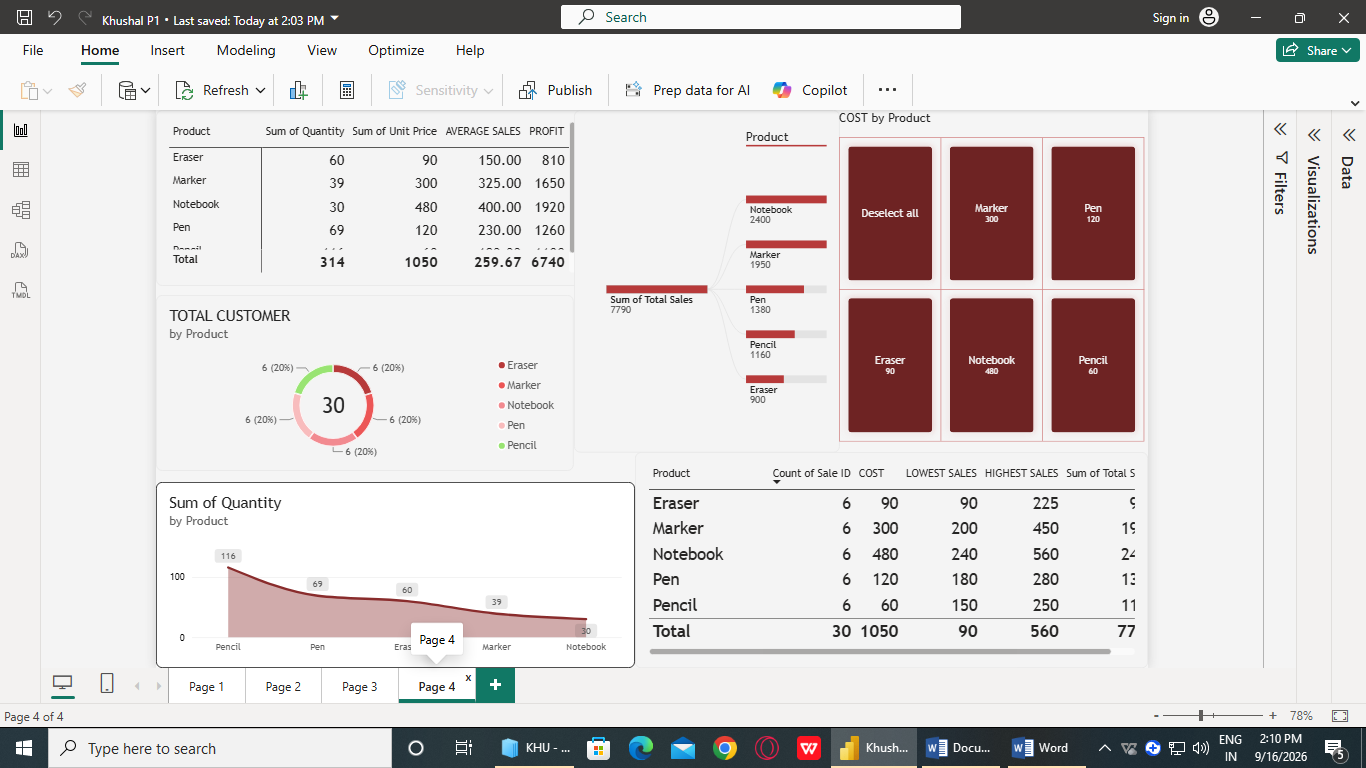

Layout of this report page (visuals, bound fields, positions):
{"tool":"powerbi","page":{"name":"Page 4","canvas":[1280,720],"ordinal":3},"visuals":[{"type":"tableEx","fields":{"Values":["SALES.Product","CountNonNull(SALES.Sale ID)","SALES.COST","SALES.LOWEST SALES","SALES.HIGHEST SALES","Sum(SALES.Total Sales)"]},"box":[618.2,441.8,661.8,278.8],"z":0},{"type":"pivotTable","fields":{"Rows":["SALES.Product"],"Values":["Sum(SALES.Quantity)","Sum(SALES.Unit Price)","SALES.AVERAGE SALES","SALES.PROFIT"]},"box":[0,0,559.4,226.8],"z":1000},{"type":"areaChart","fields":{"Y":["Sum(SALES.Quantity)"],"Category":["SALES.Product"]},"box":[0,480.4,618.2,240.2],"z":2000},{"type":"donutChart","fields":{"Y":["SALES.TOTAL CUSTOMER"],"Category":["SALES.Product"]},"box":[0,238.5,539.2,226.8],"z":3000},{"type":"decompositionTreeVisual","fields":{"Analyze":["Sum(SALES.Total Sales)"],"ExplainBy":["SALES.Product"]},"box":[539.2,0,342.7,441.8],"z":4000},{"type":"advancedSlicerVisual","fields":{"Values":["SALES.Product"],"Label":["SALES.COST"]},"box":[881.9,0,396.4,428.3],"z":5000}]}

Visuals, with their boxes on the page's 1280x720 design canvas (x1, y1, x2, y2). These are canvas units, not pixel positions in the 1366x768 screenshot, which may show the page scaled, cropped or inside an application window:
tableEx - SALES.Product x CountNonNull(SALES.Sale ID): l=618, t=442, r=1280, b=721
pivotTable - SALES.Product x Sum(SALES.Quantity): l=0, t=0, r=559, b=227
areaChart - Sum(SALES.Quantity) x SALES.Product: l=0, t=480, r=618, b=721
donutChart - SALES.TOTAL CUSTOMER x SALES.Product: l=0, t=238, r=539, b=465
decompositionTreeVisual - Sum(SALES.Total Sales) x SALES.Product: l=539, t=0, r=882, b=442
advancedSlicerVisual - SALES.Product x SALES.COST: l=882, t=0, r=1278, b=428
